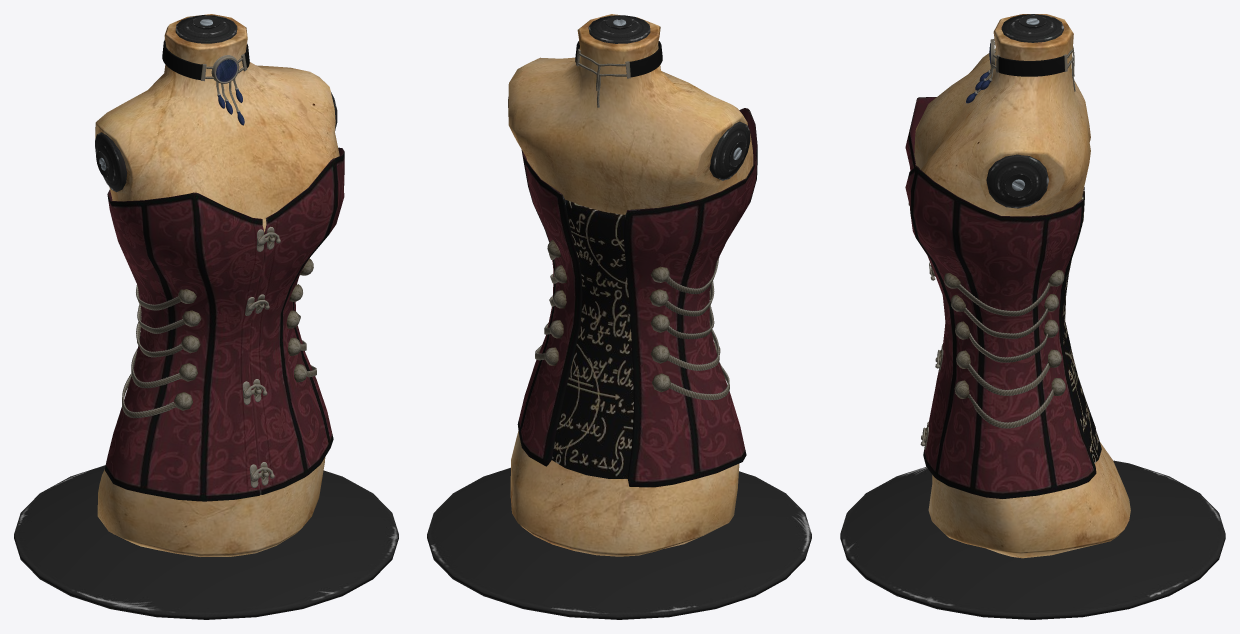
File: Corset.gltf
3 views of the same model, side by side, from view 1: azimuth 30°, elevation 25°; view 2: azimuth 150°, elevation 25°; view 3: azimuth 270°, elevation 25° (orthographic).
Parts seen in each view (by area): view 1: Corset; view 2: Corset; view 3: Corset.
Part boxes in pixels (x1,y1,x2,y2): Corset: (14, 14, 398, 619); Corset: (427, 14, 811, 619); Corset: (840, 14, 1225, 619).
Bounding box in the file's own units: 0.0389 × 0.0578 × 0.0389.
1 material, 1 textured.
